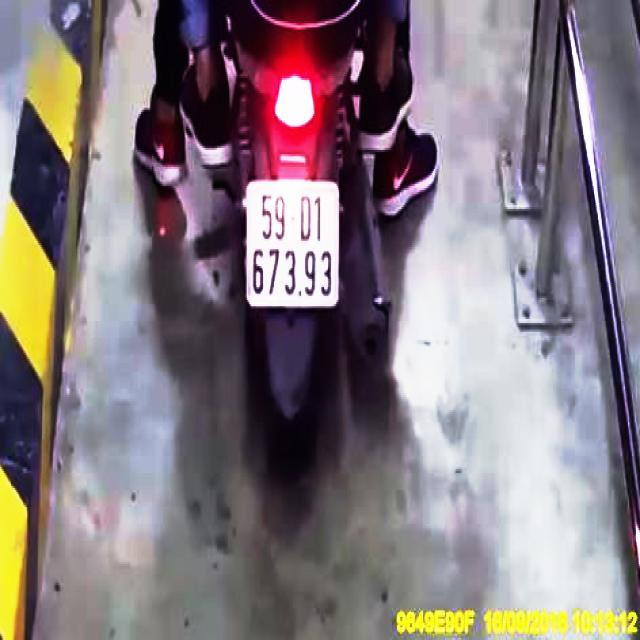license_plate: (248, 182, 338, 308)
